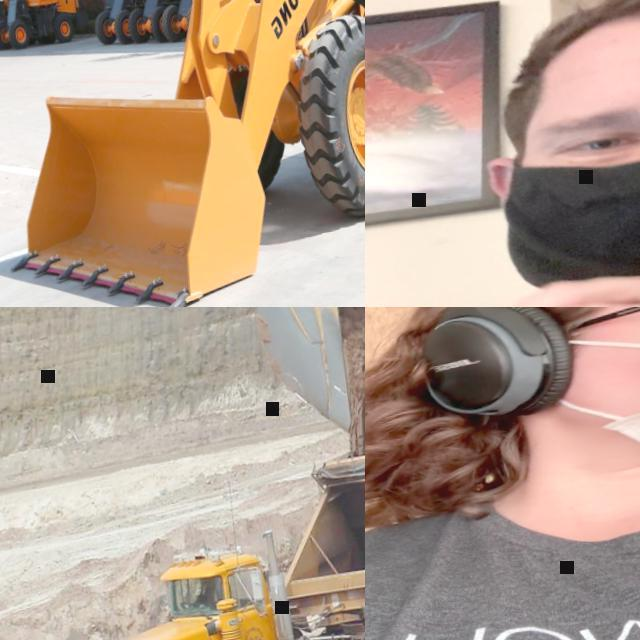machinery: (0, 0, 365, 307), (63, 388, 365, 640), (0, 0, 85, 53), (104, 0, 206, 44), (79, 0, 173, 47), (144, 0, 241, 40)
mask: (489, 116, 640, 307), (549, 307, 640, 477)
no_helmet: (509, 0, 640, 105)
no_vest: (365, 427, 640, 640)
person: (365, 307, 640, 640), (365, 0, 640, 307), (190, 576, 222, 607)
vest: (201, 582, 221, 604)
